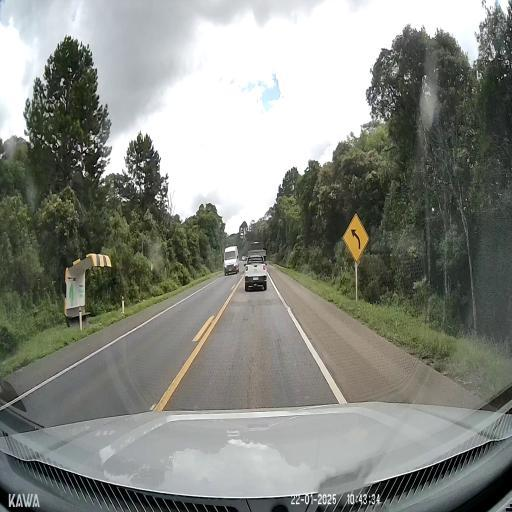A-2a: (342, 212, 370, 262)
